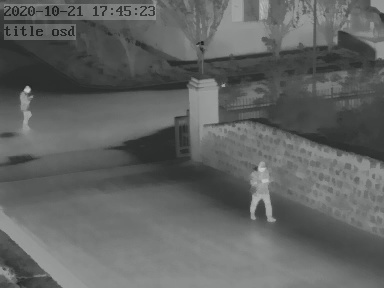person: (250, 163, 271, 220), (18, 83, 33, 127)
